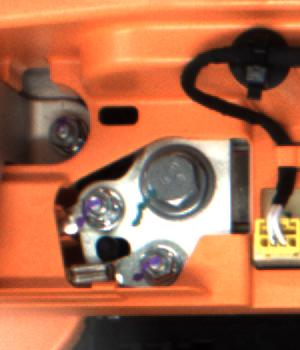nut_b: (140, 142, 221, 220)
screw_s: (75, 182, 132, 233), (140, 247, 177, 284), (48, 117, 77, 145)
